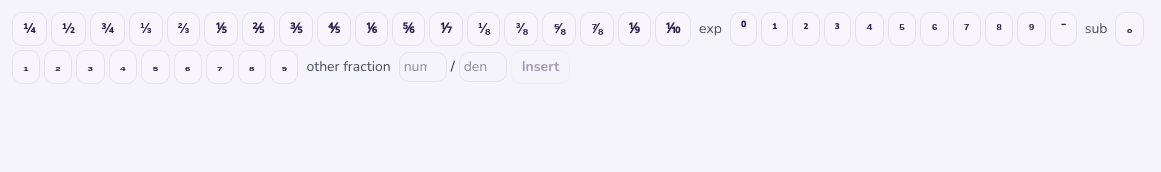
Test: NotationToolbar › disables the custom-fraction Insert button until both fields are digits
This screenshot has width=1161, height=172.
Expected: the button with test id "notation-fraction-insert" is disabled, left=511, top=50, right=570, bottom=84
Type "5" into the number field with test id "notation-fraction-numerator" at point(423, 67), box left=399, top=52, right=447, bottom=82
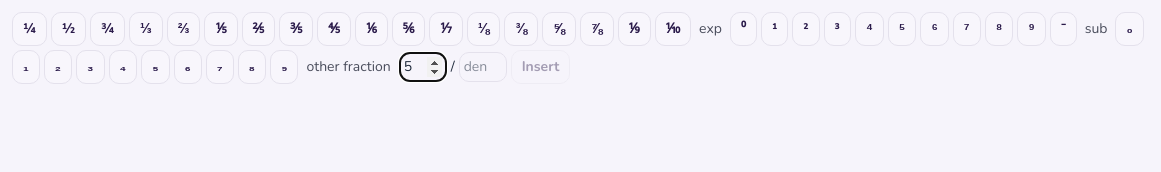
Expected: the button with test id "notation-fraction-insert" is disabled, left=511, top=50, right=570, bottom=84
Type "12" into the number field with test id "notation-fraction-denominator" at point(483, 67), box left=459, top=52, right=507, bottom=82
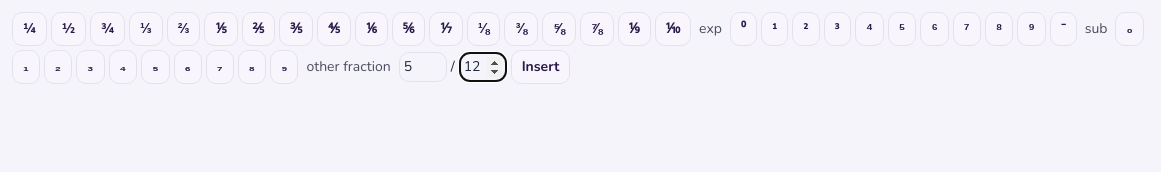
Expected: the button with test id "notation-fraction-insert" is enabled, left=511, top=50, right=570, bottom=84
